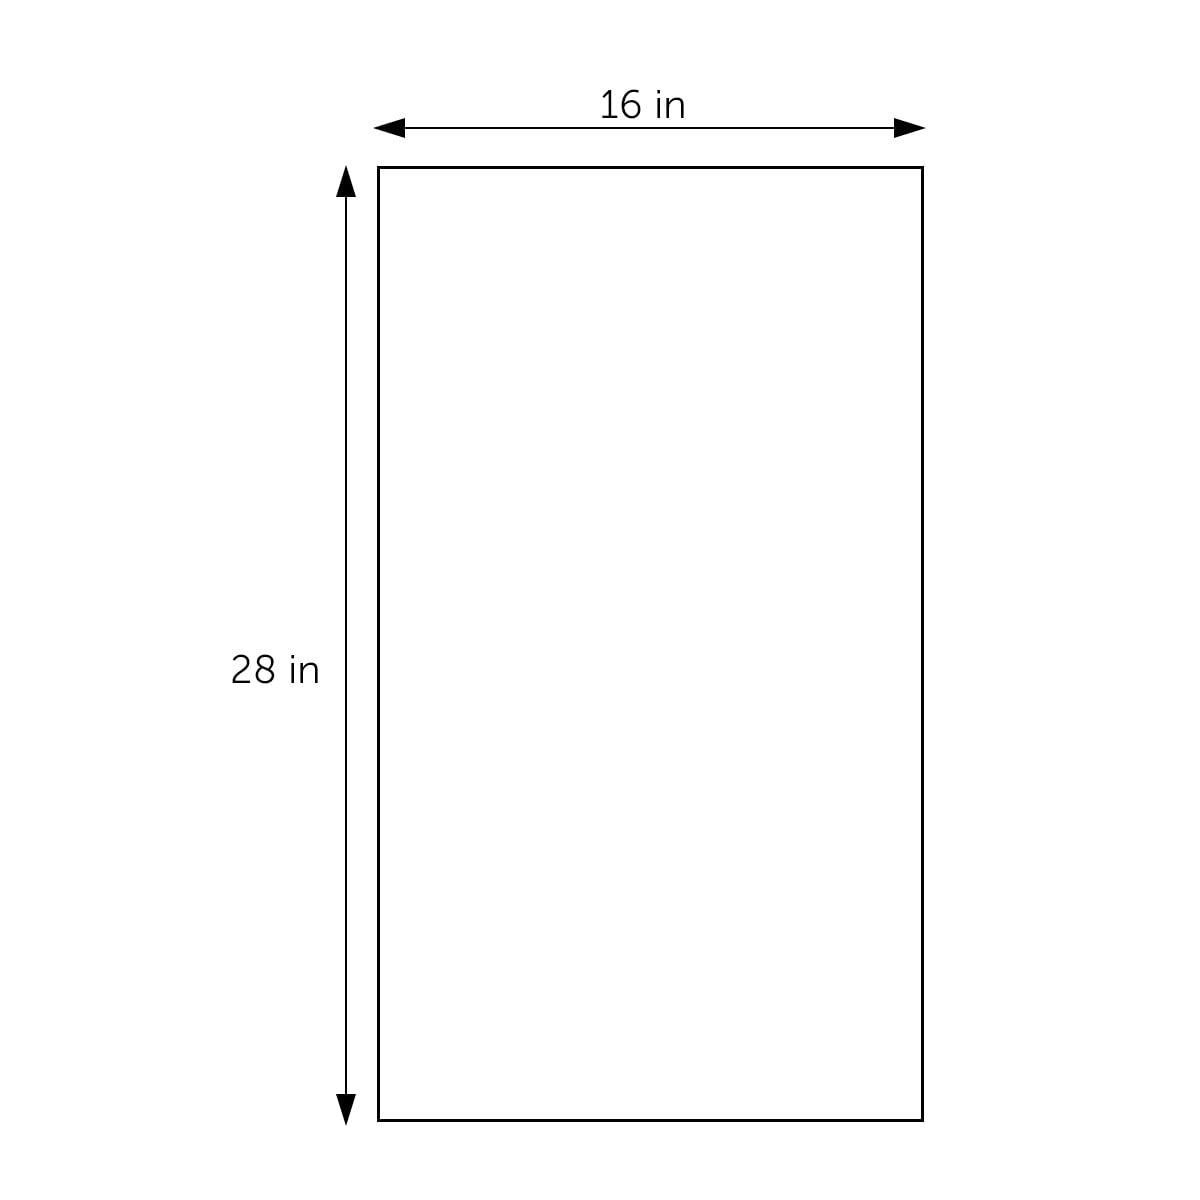16: (602, 90, 640, 118)
28: (233, 655, 274, 684)
in: (291, 655, 318, 684), (657, 90, 684, 118)
